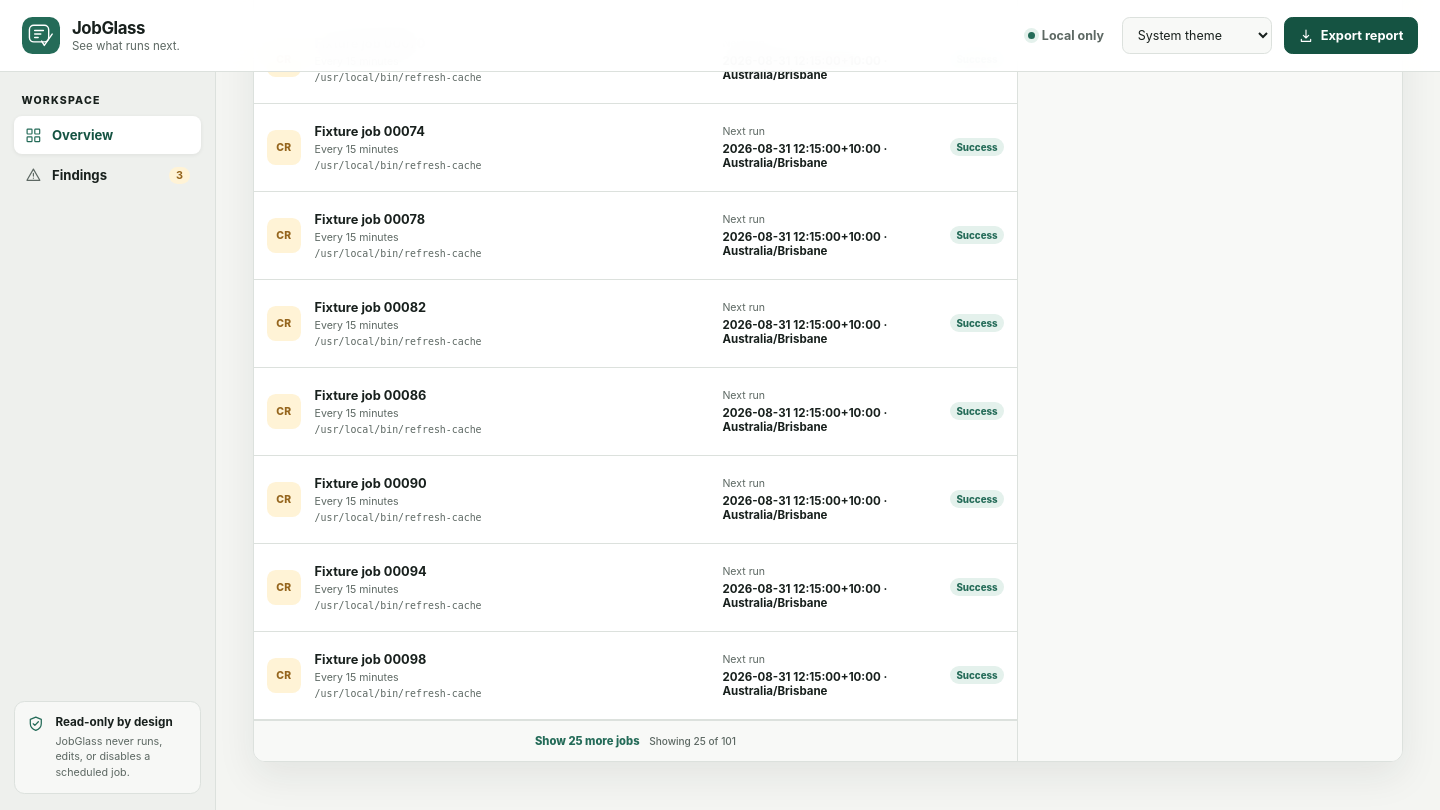
JobGlass desktop experience › paginates a large bundle without changing canonical job IDs
(page scrolled)
Click the button "Show 25 more jobs Showing 25 of 101" at (636, 740), box [254,720,1017,760]
(page scrolled)
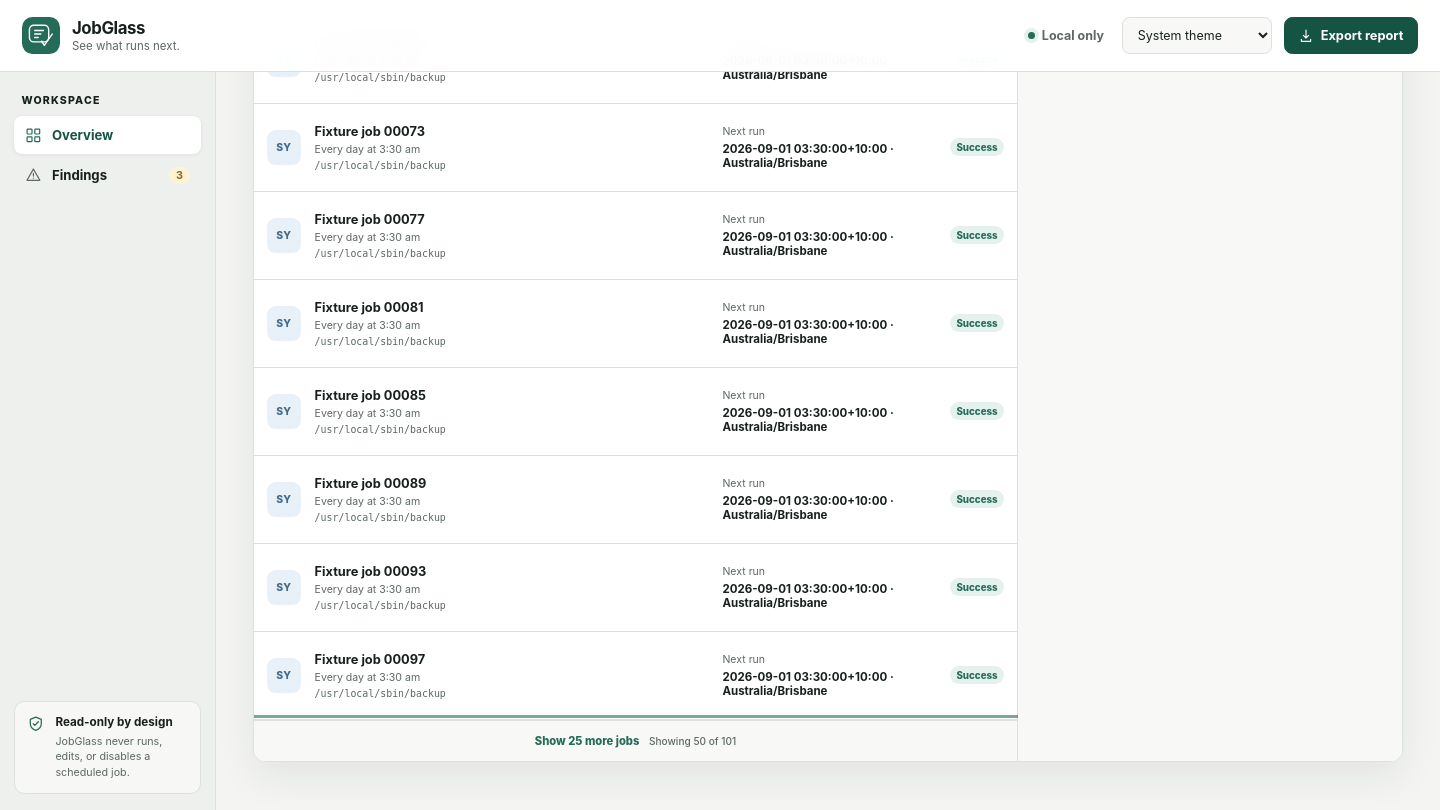
Click the button "Show 25 more jobs Showing 50 of 101" at (636, 740), box [254,720,1017,760]
(page scrolled)
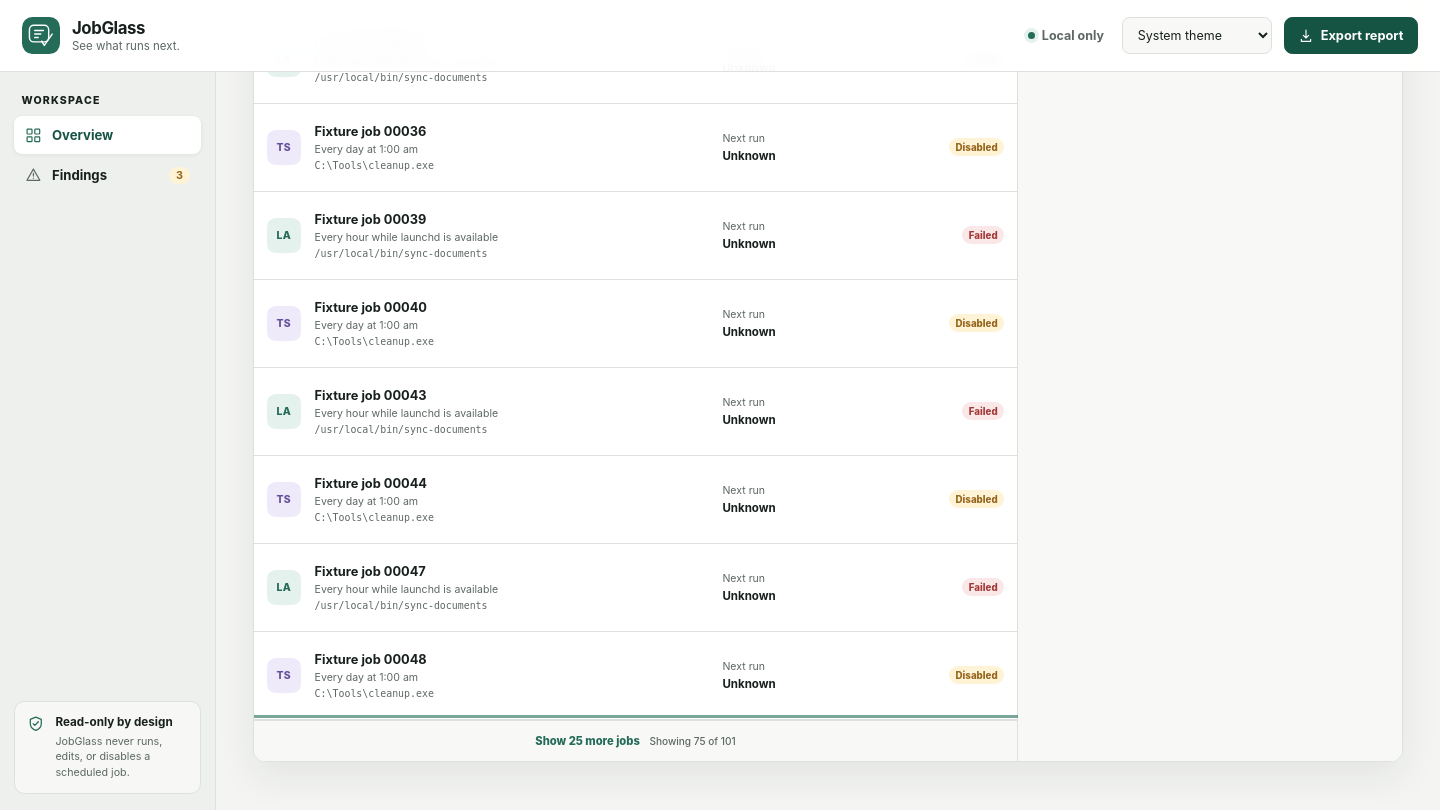
Click the button "Show 25 more jobs Showing 75 of 101" at (636, 740), box [254,720,1017,760]
(page scrolled)
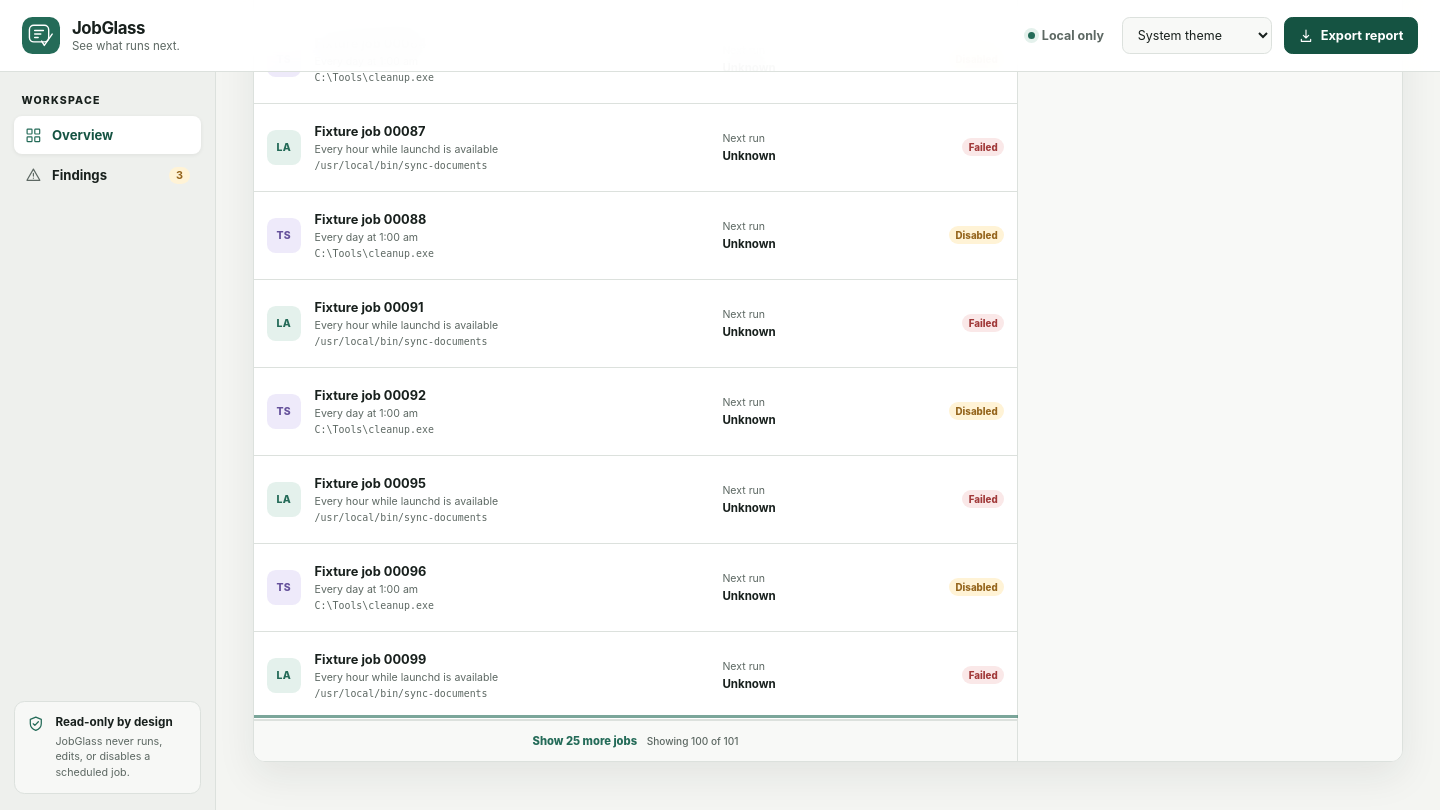
Click the button "Show 25 more jobs Showing 100 of 101" at (636, 740), box [254,720,1017,760]
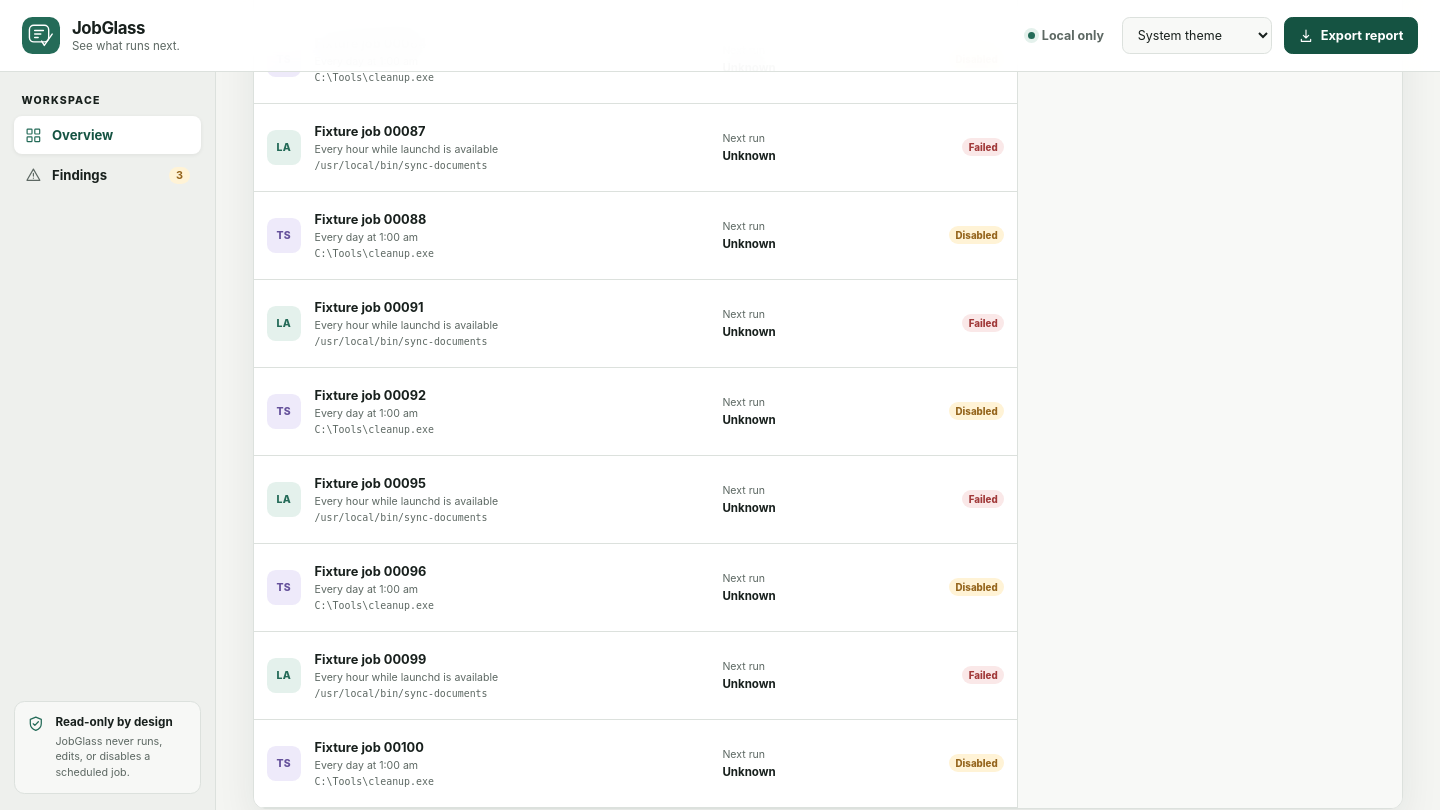
Now the button "Show 25 more jobs" is gone
